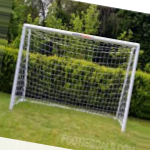goals: (8, 21, 141, 133)
